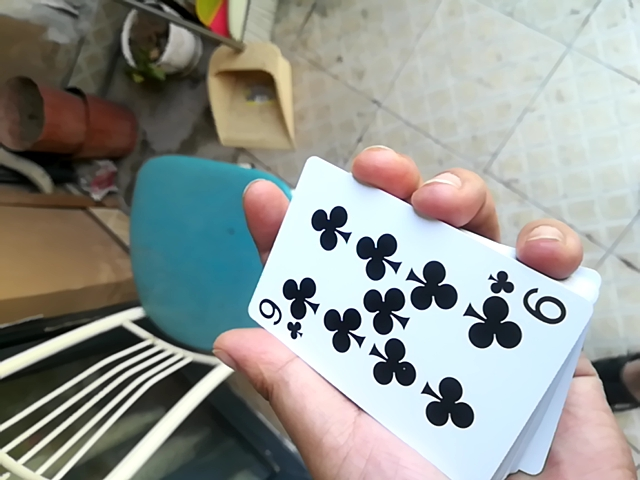mh 9: (240, 162, 605, 480)
